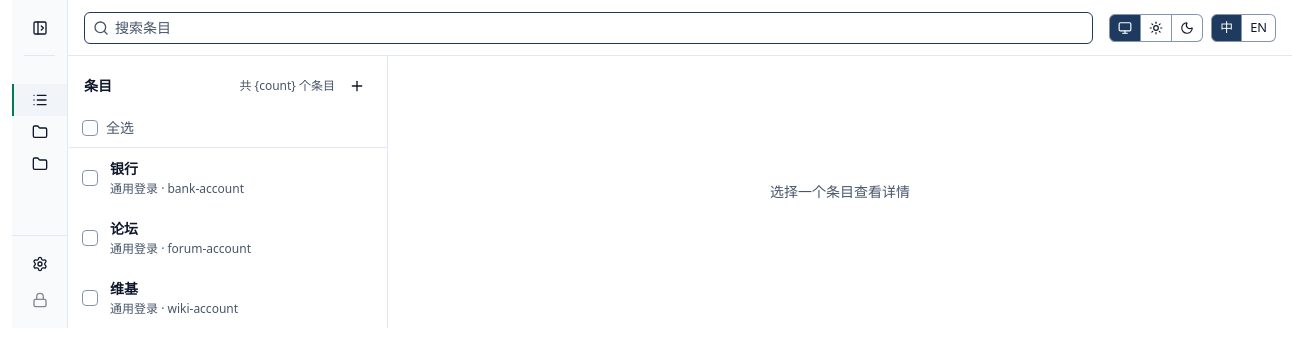
Test: 折叠态的侧栏内容 › 没有分区标题, 新建按钮和行尾更多菜单, 展开后都回来
The image size is (1292, 345).
Step 1. Click the button named "展开侧栏" → (40, 28), box [26,14,54,42]
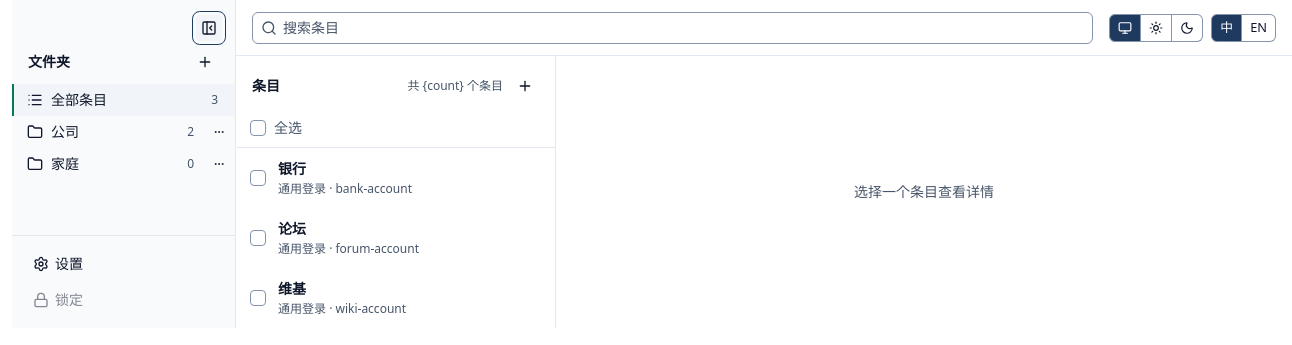
Result: the button named "新建文件夹" is shown at [191,48,219,76]
Result: the number of buttons named "的更多操作" is 2 at [207,120,231,144]; [207,152,231,176]
